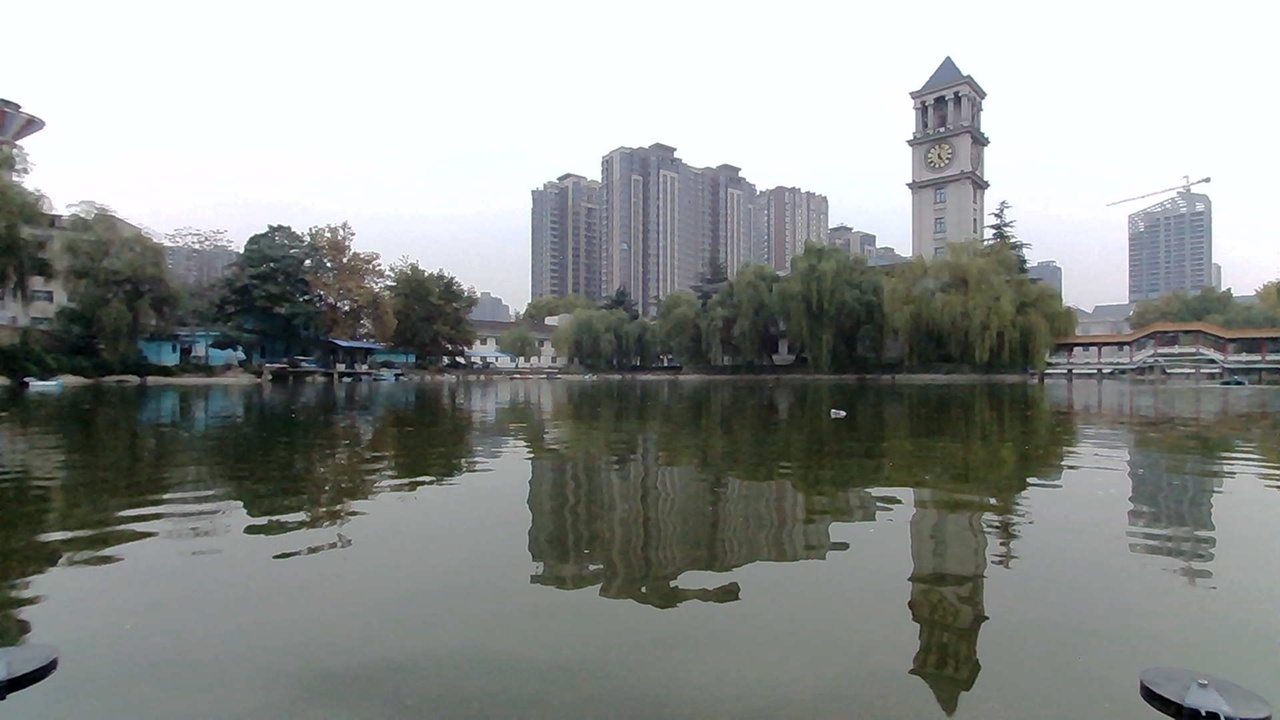bottle: (825, 396, 864, 426)
